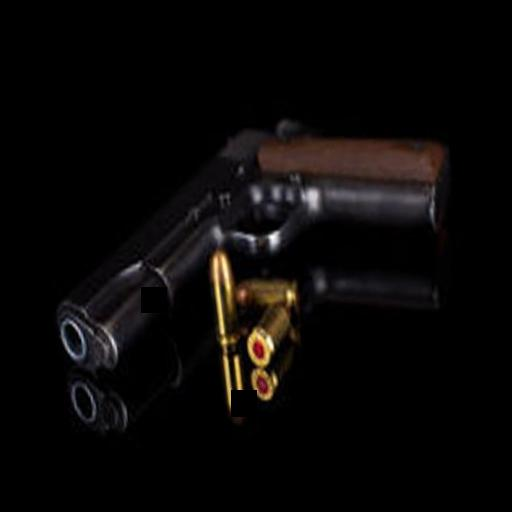Handgun: (34, 92, 474, 378)
